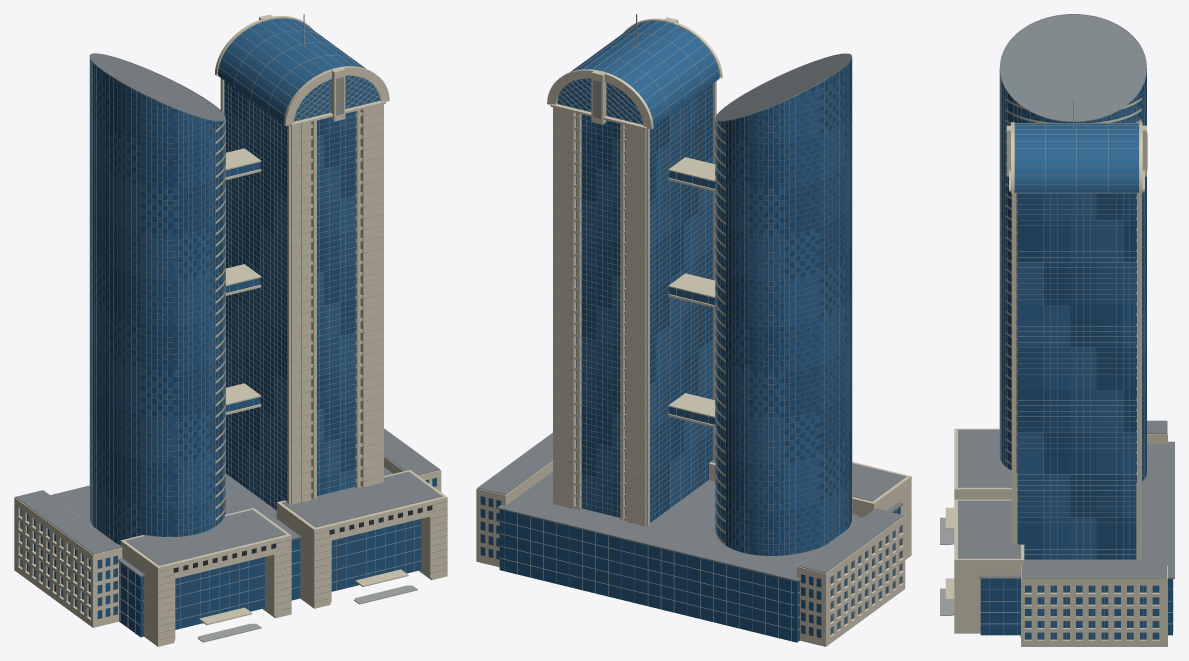
The model's file is ktz-r4-draco.glb.
3 renders of one model, left to right at view 1: azimuth 30°, elevation 25°; view 2: azimuth 150°, elevation 25°; view 3: azimuth 270°, elevation 25°, orthographic. The views are drawn at different scales.
Visible parts, largest first — view 1: KTZ refined glass2, KTZ refined frame, KTZ refined stone, KTZ refined glass1, KTZ refined glass3, KTZ refined glass0, KTZ podium stone, KTZ podium roof, KTZ podium glass0, KTZ refined roof, KTZ podium frame, KTZ podium paving (+2 smaller); view 2: KTZ refined glass2, KTZ refined stone, KTZ refined frame, KTZ refined glass1, KTZ refined glass3, KTZ refined glass0, KTZ podium glass0, KTZ podium roof, KTZ podium stone, KTZ podium frame, KTZ refined roof; view 3: KTZ refined glass2, KTZ refined glass1, KTZ refined stone, KTZ refined frame, KTZ refined glass3, KTZ refined glass0, KTZ podium roof, KTZ refined roof, KTZ podium stone, KTZ podium glass0, KTZ podium paving, KTZ podium frame.
Part boxes in pixels (x1=…): KTZ refined glass2: x1=90, y1=18, x2=379, y2=544; KTZ refined frame: x1=21, y1=14, x2=379, y2=617; KTZ refined stone: x1=14, y1=14, x2=441, y2=627; KTZ refined glass1: x1=20, y1=64, x2=355, y2=617; KTZ refined glass3: x1=90, y1=59, x2=355, y2=543; KTZ refined glass0: x1=90, y1=62, x2=355, y2=536; KTZ podium stone: x1=15, y1=456, x2=447, y2=646; KTZ podium roof: x1=15, y1=428, x2=442, y2=576; KTZ podium glass0: x1=97, y1=477, x2=436, y2=637; KTZ refined roof: x1=89, y1=54, x2=225, y2=120; KTZ podium frame: x1=118, y1=520, x2=420, y2=633; KTZ podium paving: x1=197, y1=585, x2=417, y2=642; KTZ refined glass2: x1=557, y1=21, x2=851, y2=553; KTZ refined stone: x1=476, y1=17, x2=905, y2=646; KTZ refined frame: x1=557, y1=14, x2=900, y2=634; KTZ refined glass1: x1=576, y1=60, x2=901, y2=634; KTZ refined glass3: x1=576, y1=65, x2=851, y2=555; KTZ refined glass0: x1=576, y1=59, x2=851, y2=555; KTZ podium glass0: x1=480, y1=496, x2=900, y2=642; KTZ podium roof: x1=478, y1=433, x2=906, y2=581; KTZ podium stone: x1=476, y1=448, x2=911, y2=646; KTZ podium frame: x1=498, y1=510, x2=896, y2=641; KTZ refined roof: x1=715, y1=54, x2=851, y2=120; KTZ refined glass2: x1=1000, y1=78, x2=1146, y2=559; KTZ refined glass1: x1=1000, y1=75, x2=1159, y2=639; KTZ refined stone: x1=1005, y1=89, x2=1167, y2=646; KTZ refined frame: x1=999, y1=14, x2=1146, y2=639; KTZ refined glass3: x1=1000, y1=70, x2=1146, y2=559; KTZ refined glass0: x1=1000, y1=69, x2=1146, y2=559; KTZ podium roof: x1=958, y1=420, x2=1174, y2=578; KTZ refined roof: x1=1000, y1=14, x2=1146, y2=121; KTZ podium stone: x1=945, y1=421, x2=1167, y2=633; KTZ podium glass0: x1=980, y1=574, x2=1172, y2=637; KTZ podium paving: x1=940, y1=517, x2=954, y2=615; KTZ podium frame: x1=979, y1=579, x2=1173, y2=634.
Size of the model in its own units: 108 by 157 by 67.1.
